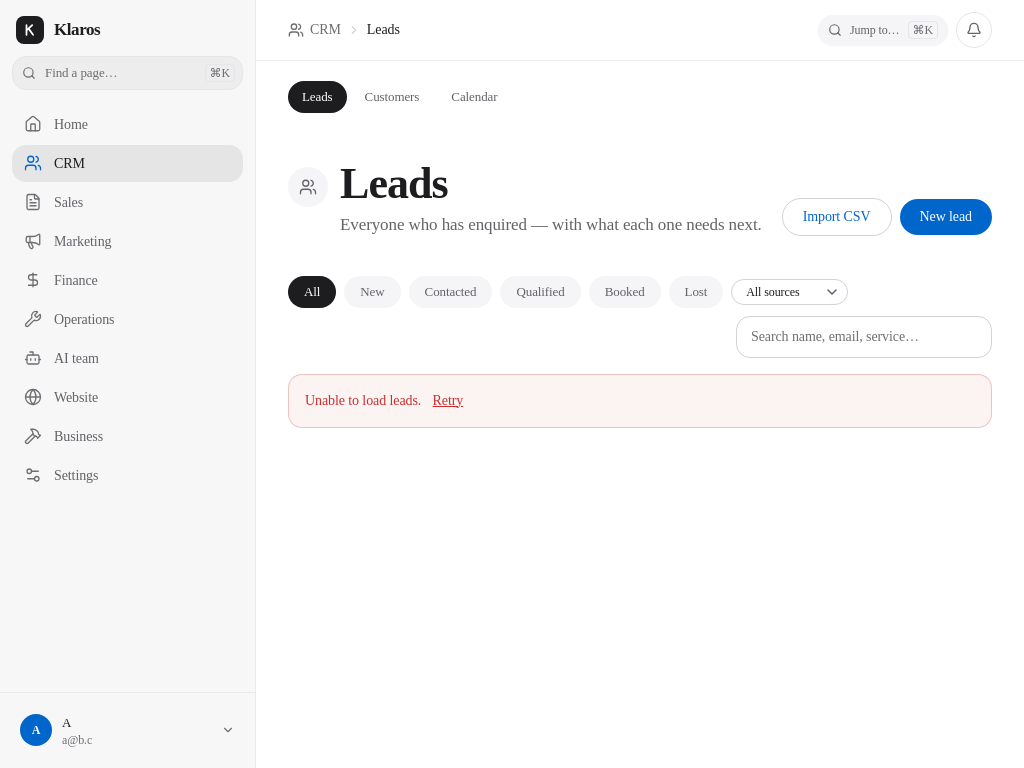
Test: Leads — the operating workspace › announces a failure and offers a retry
expect the message shows "Unable to load leads.": met, box 305,393 -> 421,408
Click the button "Retry" at (448, 401), box 433,391 -> 463,411
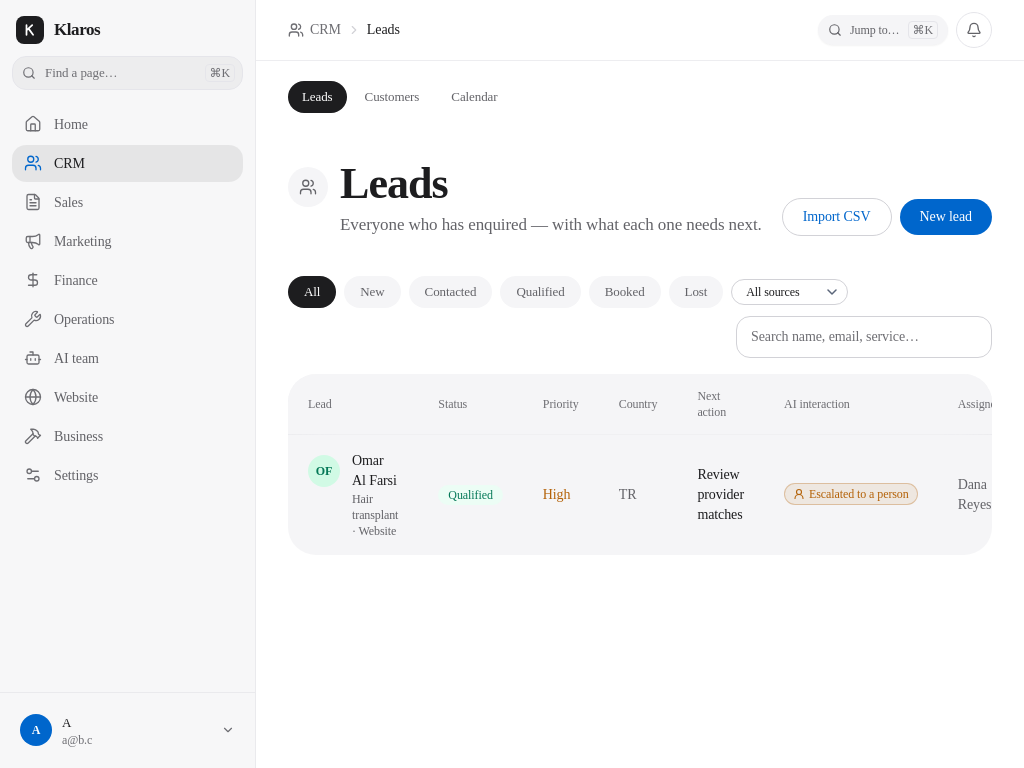
expect the table is shown: met, box 288,374 -> 992,555
